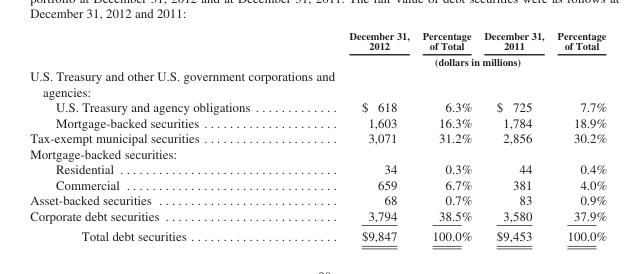table: (29, 29, 606, 243)
table column: (29, 29, 299, 243), (299, 29, 415, 243), (477, 29, 550, 243), (415, 29, 477, 243), (550, 29, 606, 243)
table column header: (29, 29, 606, 67)
table projected row header: (29, 67, 606, 99), (29, 145, 606, 161)
table row: (29, 67, 606, 99), (29, 29, 606, 53), (29, 207, 606, 225), (29, 225, 606, 243), (29, 114, 606, 130), (29, 145, 606, 161), (29, 176, 606, 192), (29, 99, 606, 114), (29, 130, 606, 145), (29, 161, 606, 176), (29, 192, 606, 207), (29, 53, 606, 67)
table spanning cell: (299, 53, 606, 67)
